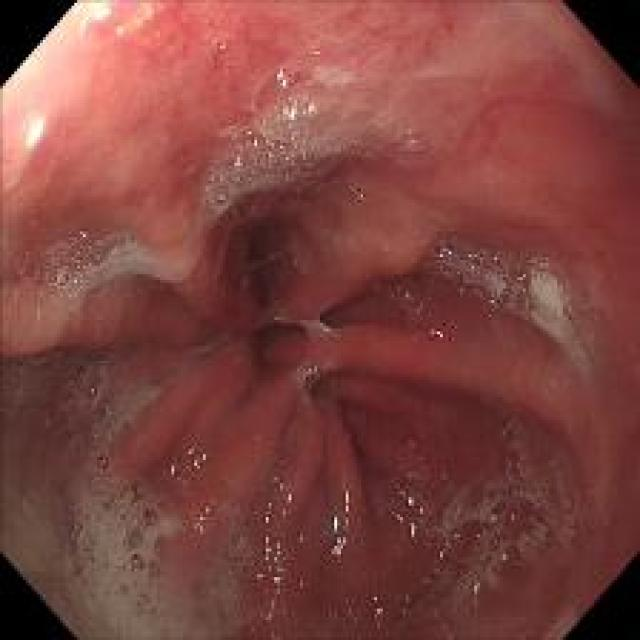bubbles: (5, 352, 182, 636), (426, 425, 592, 636), (12, 226, 156, 315), (435, 498, 540, 604), (424, 235, 532, 319), (206, 498, 258, 632), (225, 124, 331, 188), (244, 62, 341, 126), (199, 176, 285, 221), (72, 362, 111, 429), (541, 520, 586, 561), (391, 119, 434, 160), (321, 594, 359, 635), (130, 482, 161, 528), (115, 584, 154, 618), (500, 440, 525, 489), (5, 360, 29, 406), (556, 482, 579, 522), (124, 531, 148, 568), (90, 444, 116, 474), (96, 494, 118, 521)
color misalignment: (254, 530, 294, 622), (325, 481, 358, 560), (381, 484, 425, 540), (259, 471, 295, 521), (296, 360, 328, 381), (366, 591, 388, 621), (422, 324, 452, 344), (511, 271, 532, 298), (399, 594, 411, 620), (471, 580, 482, 599), (489, 510, 498, 524), (508, 511, 516, 524)
saturation: (10, 9, 92, 109)
specularity: (186, 448, 210, 468)
